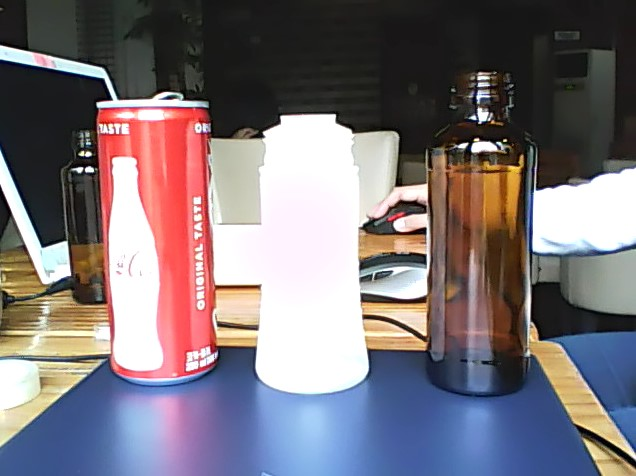Can: (93, 87, 221, 389)
Glass: (418, 67, 543, 399)
Plastic: (247, 107, 374, 399)
